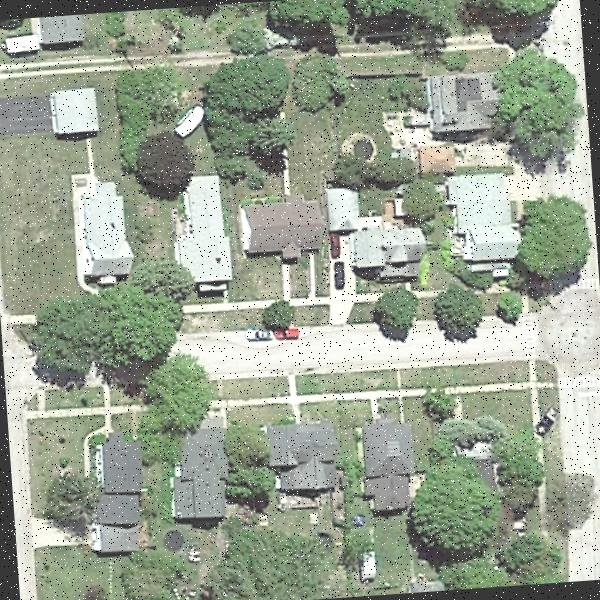Buildings: (450, 170, 523, 258), (74, 178, 132, 276), (186, 180, 238, 280), (427, 74, 510, 132), (362, 418, 414, 510), (94, 434, 145, 526), (243, 197, 327, 252), (178, 432, 229, 512), (274, 436, 332, 490), (351, 229, 422, 272), (44, 88, 98, 134)
